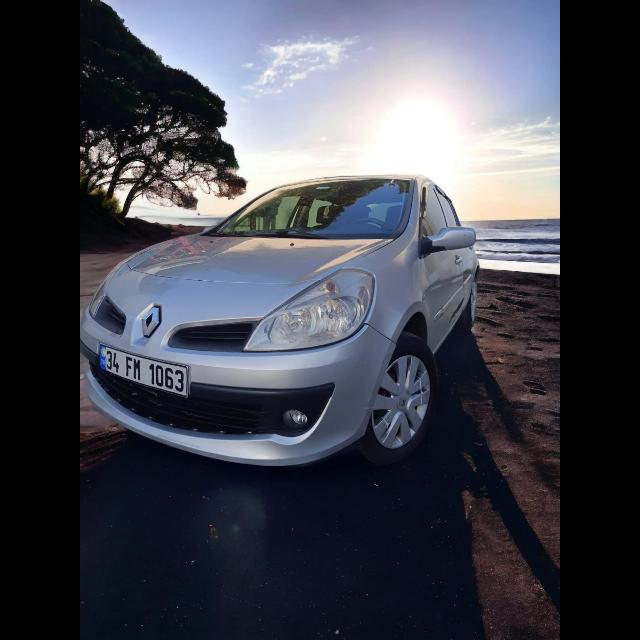Plaka: (100, 344, 190, 398)
